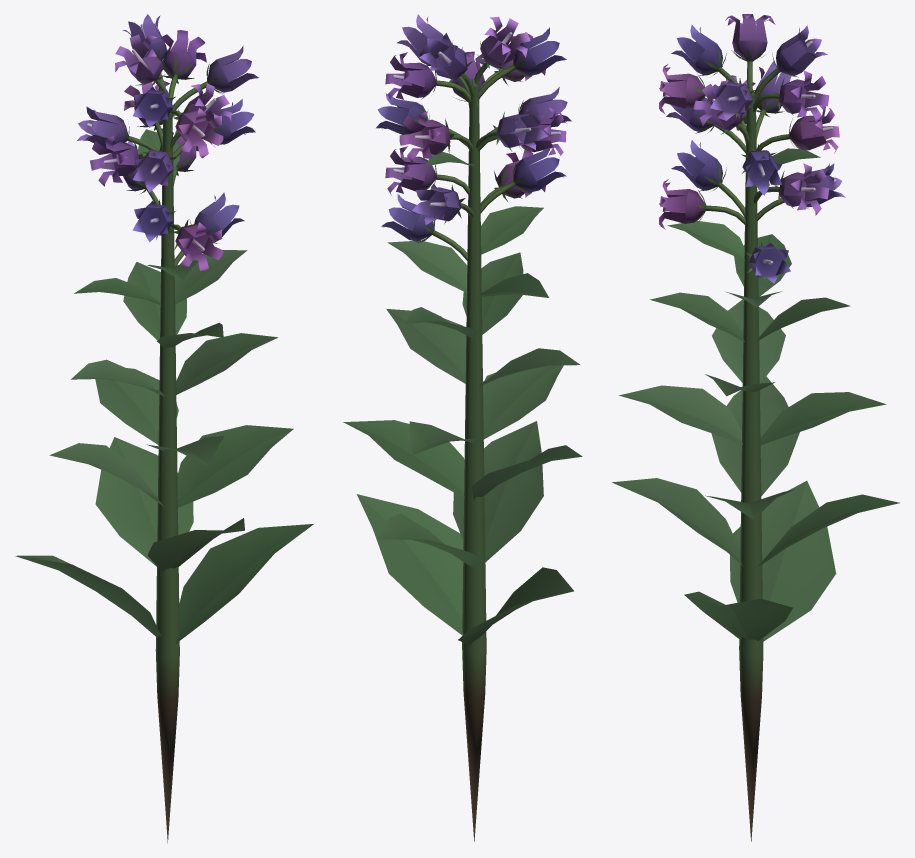
The model's file is plants-flowers-purple-bellflower_v1.fbx.
3 renders of one model, left to right at view 1: azimuth 30°, elevation 25°; view 2: azimuth 150°, elevation 25°; view 3: azimuth 270°, elevation 25°, orthographic. The views are drawn at different scales.
Parts seen in each view (by area): view 1: Purple Bellflower_v1; view 2: Purple Bellflower_v1; view 3: Purple Bellflower_v1.
Boxes of the visible parts, left/top/right/bottom form: Purple Bellflower_v1: left=15, top=14, right=313, bottom=843; Purple Bellflower_v1: left=343, top=14, right=582, bottom=841; Purple Bellflower_v1: left=612, top=14, right=899, bottom=841.
Size of the model in its own units: 0.2314 by 0.7 by 0.2238.
